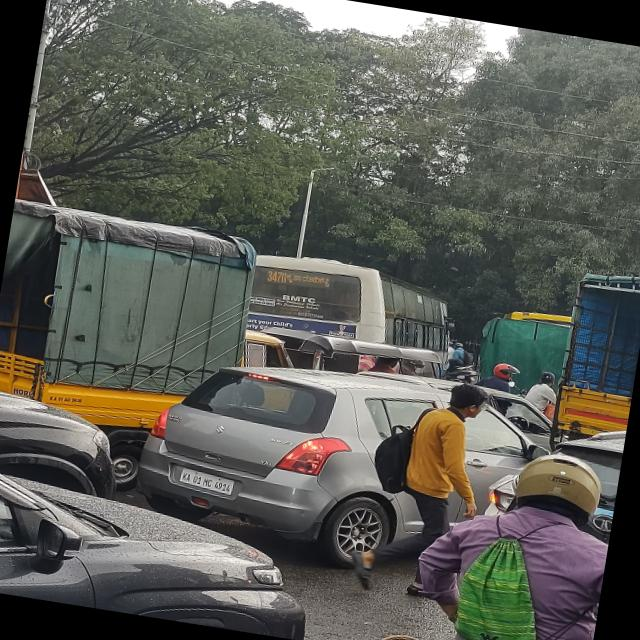bus: (240, 244, 475, 372)
display: (258, 260, 346, 298)
